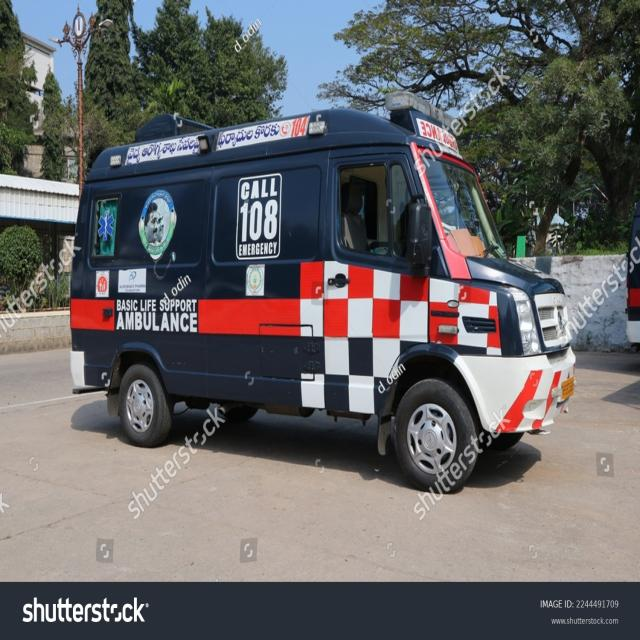ambulance: (68, 94, 578, 494)
